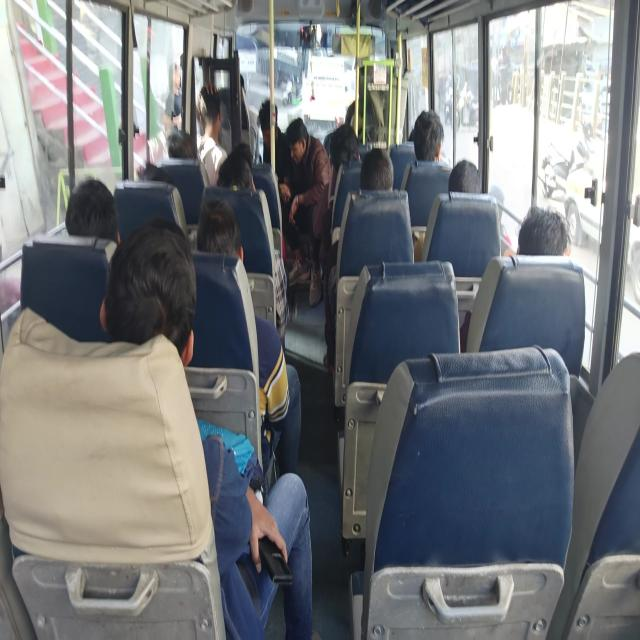person: (100, 218, 315, 638), (196, 193, 302, 480), (459, 204, 572, 351), (323, 147, 394, 370), (215, 143, 289, 343), (278, 117, 331, 306), (308, 124, 361, 306), (448, 158, 515, 256), (64, 176, 120, 244), (256, 98, 292, 194), (196, 82, 227, 186), (344, 66, 383, 142), (516, 204, 572, 256), (408, 109, 447, 164), (216, 144, 256, 192), (359, 147, 394, 191), (163, 62, 182, 135), (448, 159, 481, 193)
